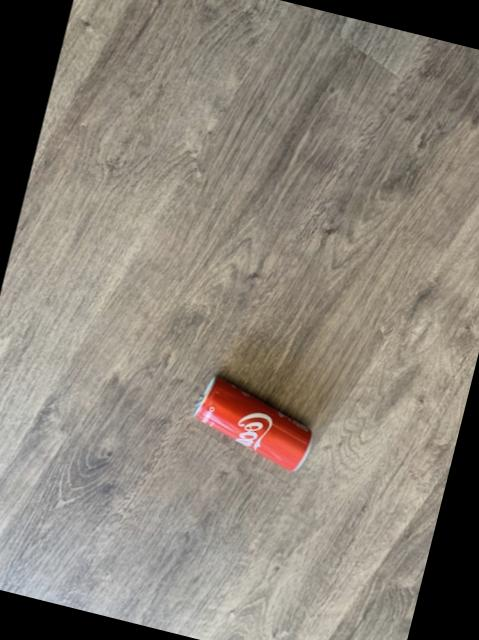metal: (195, 377, 312, 469)
